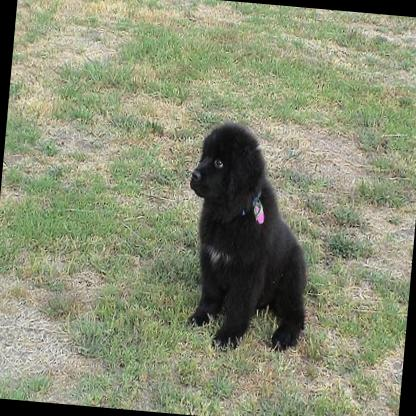Newfoundland: (174, 117, 323, 358)
